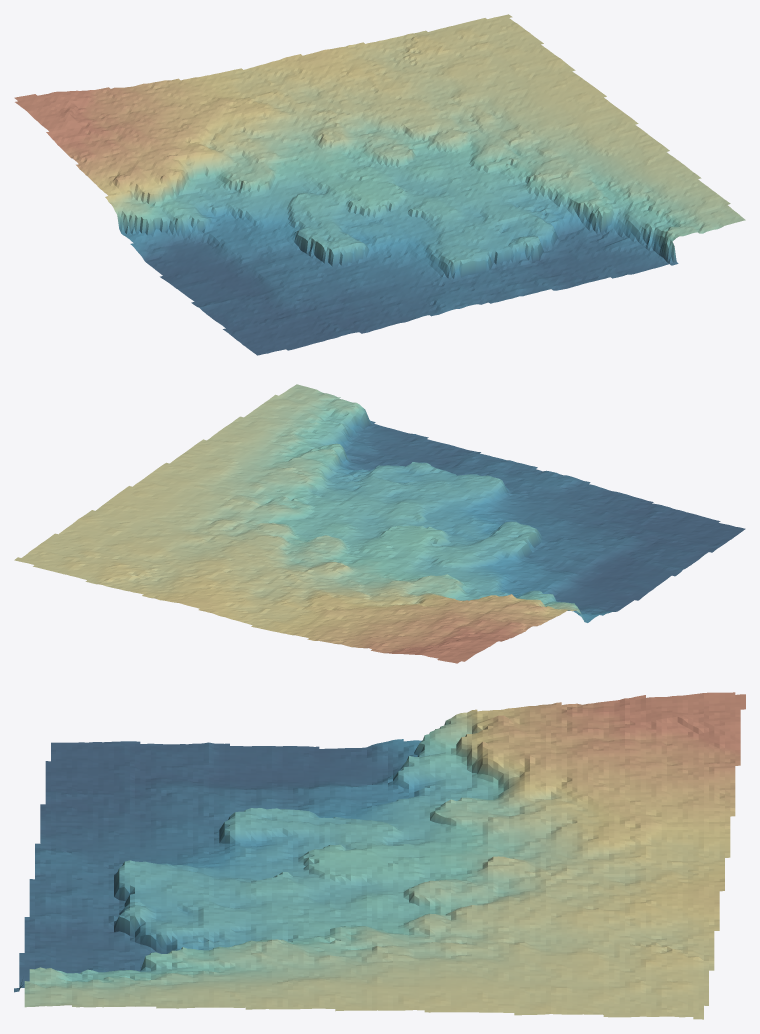
The model's file is oma084_mesh_monsterpp.glb.
3 views of the same model, one above another, from view 1: azimuth 30°, elevation 25°; view 2: azimuth 150°, elevation 25°; view 3: azimuth 270°, elevation 25° (orthographic). The views are drawn at different scales.
Visible parts, largest first — view 1: world; view 2: world; view 3: world.
Part boxes in pixels (<box>): world: <box>14,14,745,355</box>; world: <box>14,384,745,663</box>; world: <box>14,692,745,1019</box>.
Size of the model in its own units: 213 by 21.05 by 208.
